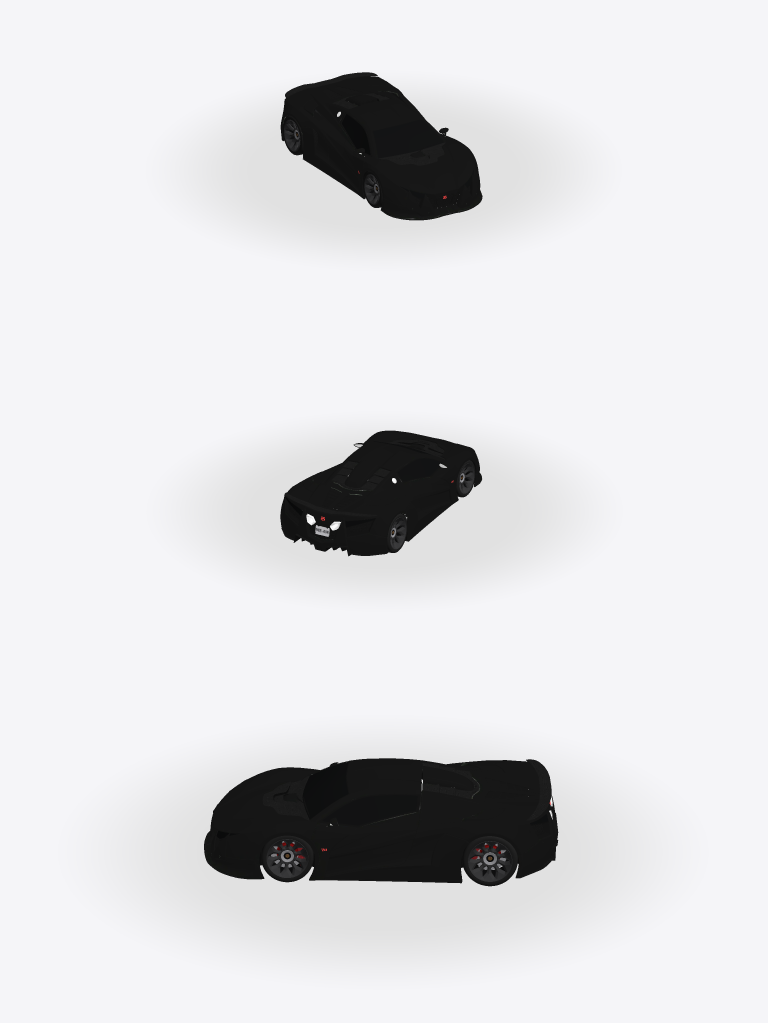
The model's file is car.glb.
3 views of the same model, one above another, from view 1: azimuth 30°, elevation 25°; view 2: azimuth 150°, elevation 25°; view 3: azimuth 270°, elevation 25° (orthographic). The views are drawn at different scales.
Parts seen in each view (by area): view 1: car, car_wheel_BR, car_wheel_FR; view 2: car, car_wheel_BR, car_wheel_FR; view 3: car, car_wheel_BL, car_wheel_FL.
Part boxes in pixels (x1,y1,x2,y2): car: (161, 72, 605, 264); car_wheel_BR: (283, 115, 303, 155); car_wheel_FR: (363, 171, 382, 207); car: (162, 417, 606, 605); car_wheel_BR: (387, 513, 407, 552); car_wheel_FR: (456, 460, 475, 497); car: (79, 724, 686, 980); car_wheel_BL: (462, 836, 517, 886); car_wheel_FL: (261, 835, 313, 882).
Bounding box in the file's own units: 9.4 × 1.15 × 9.4.
Materials: 6 (3 with a texture image).
